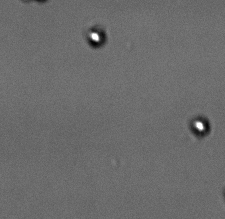Living Cell: (189, 115, 210, 137), (86, 26, 106, 48)
